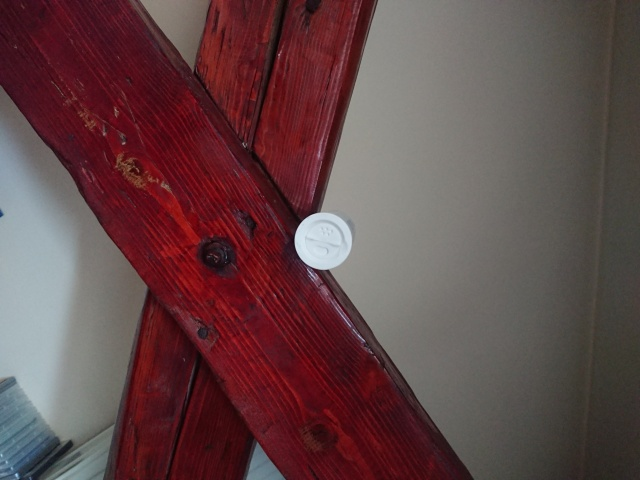Solana Pag Fine Sea Salt 250g: (291, 209, 358, 272)
